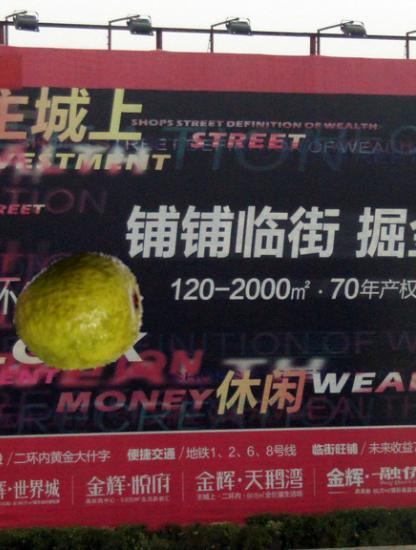Guava: (12, 245, 146, 379)
